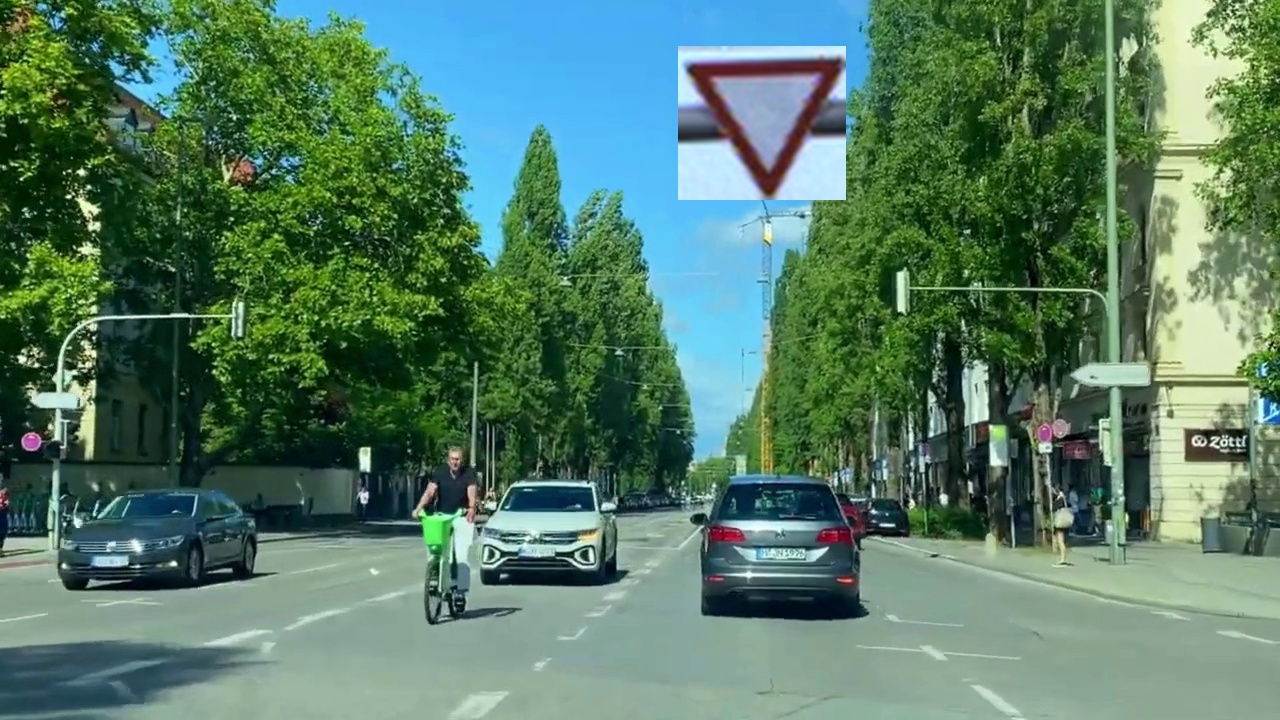Yield: (678, 46, 846, 200)
